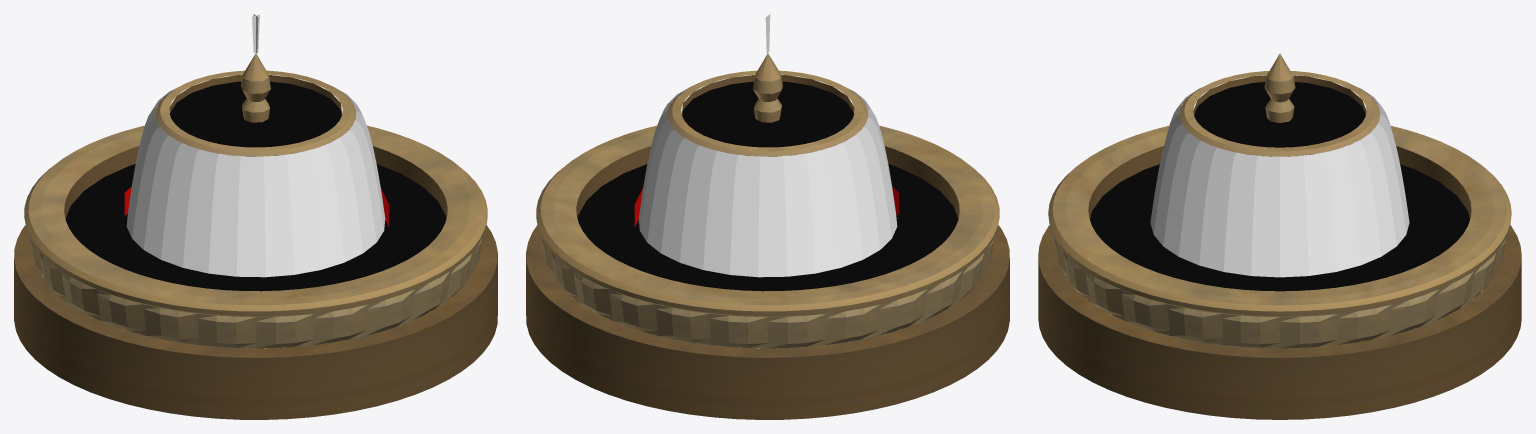
The model's file is fountain.glb.
3 views of the same model, side by side, from view 1: azimuth 30°, elevation 25°; view 2: azimuth 150°, elevation 25°; view 3: azimuth 270°, elevation 25° (orthographic).
Visible parts, largest first — view 1: props_0_0, FountainWater; view 2: props_0_0, FountainWater; view 3: props_0_0, FountainWater.
Boxes of the visible parts, x1,y1,x2,y2 form: props_0_0: (14, 53, 497, 419); FountainWater: (65, 14, 446, 291); props_0_0: (526, 53, 1009, 419); FountainWater: (577, 14, 958, 291); props_0_0: (1038, 53, 1521, 419); FountainWater: (1090, 82, 1469, 291).
Bounding box in the file's own units: 5.3 × 3.65 × 5.3.
3 materials, 1 textured.
